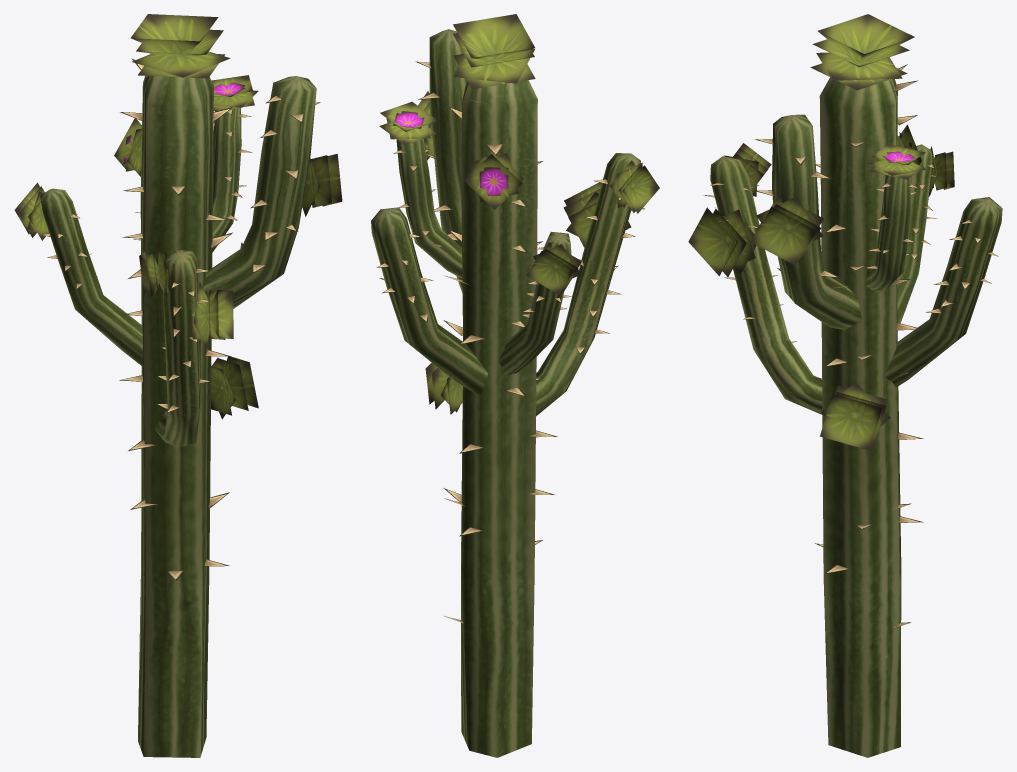
Rendered from cactus_04.FBX.
The picture shows the model from 3 angles, left to right: view 1: azimuth 30°, elevation 25°; view 2: azimuth 150°, elevation 25°; view 3: azimuth 270°, elevation 25°; orthographic projection. The views are drawn at different scales.
Visible parts, largest first — view 1: cactus_04; view 2: cactus_04; view 3: cactus_04.
Part boxes in pixels (<box>): cactus_04: <box>14,14,342,757</box>; cactus_04: <box>371,14,659,757</box>; cactus_04: <box>688,14,1002,757</box>.
Size of the model in its own units: 21.14 by 60.93 by 24.3.
